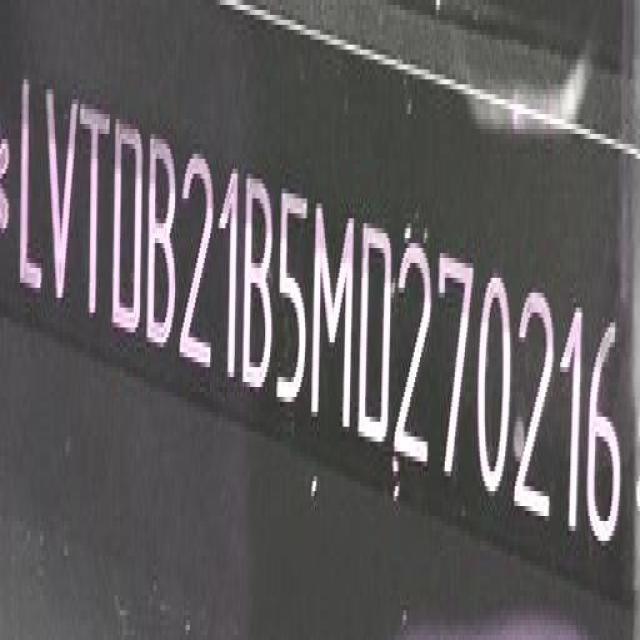0: (476, 270, 512, 491)
1: (560, 287, 585, 538), (219, 156, 238, 382)
2: (392, 222, 432, 472), (514, 290, 555, 520), (178, 140, 214, 376)
5: (275, 167, 308, 415)
6: (588, 318, 624, 544)
7: (436, 246, 474, 489)
B: (241, 152, 274, 392), (147, 125, 177, 351)
D: (357, 210, 391, 448), (114, 114, 142, 336)
L: (20, 68, 44, 300)
M: (311, 198, 357, 432)
T: (77, 97, 111, 331)
V: (46, 77, 78, 316)
